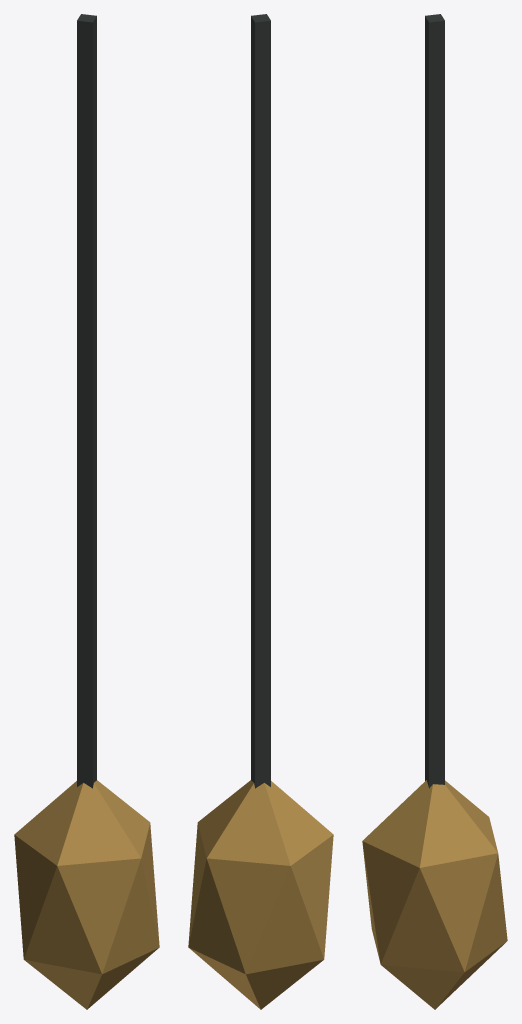
File: pendulum.glb
The picture shows the model from 3 angles, left to right: view 1: azimuth 30°, elevation 25°; view 2: azimuth 150°, elevation 25°; view 3: azimuth 330°, elevation 25°; orthographic projection.
Parts seen in each view (by area): view 1: pendulum bob, pendulum string; view 2: pendulum bob, pendulum string; view 3: pendulum bob, pendulum string.
Part boxes in pixels (bbox=[...]): pendulum bob: bbox=[14, 780, 159, 1009]; pendulum string: bbox=[77, 14, 96, 788]; pendulum bob: bbox=[188, 780, 333, 1009]; pendulum string: bbox=[251, 14, 270, 788]; pendulum bob: bbox=[362, 780, 507, 1009]; pendulum string: bbox=[425, 14, 444, 788].
Size of the model in its own units: 0.0501 by 0.375 by 0.0476.
